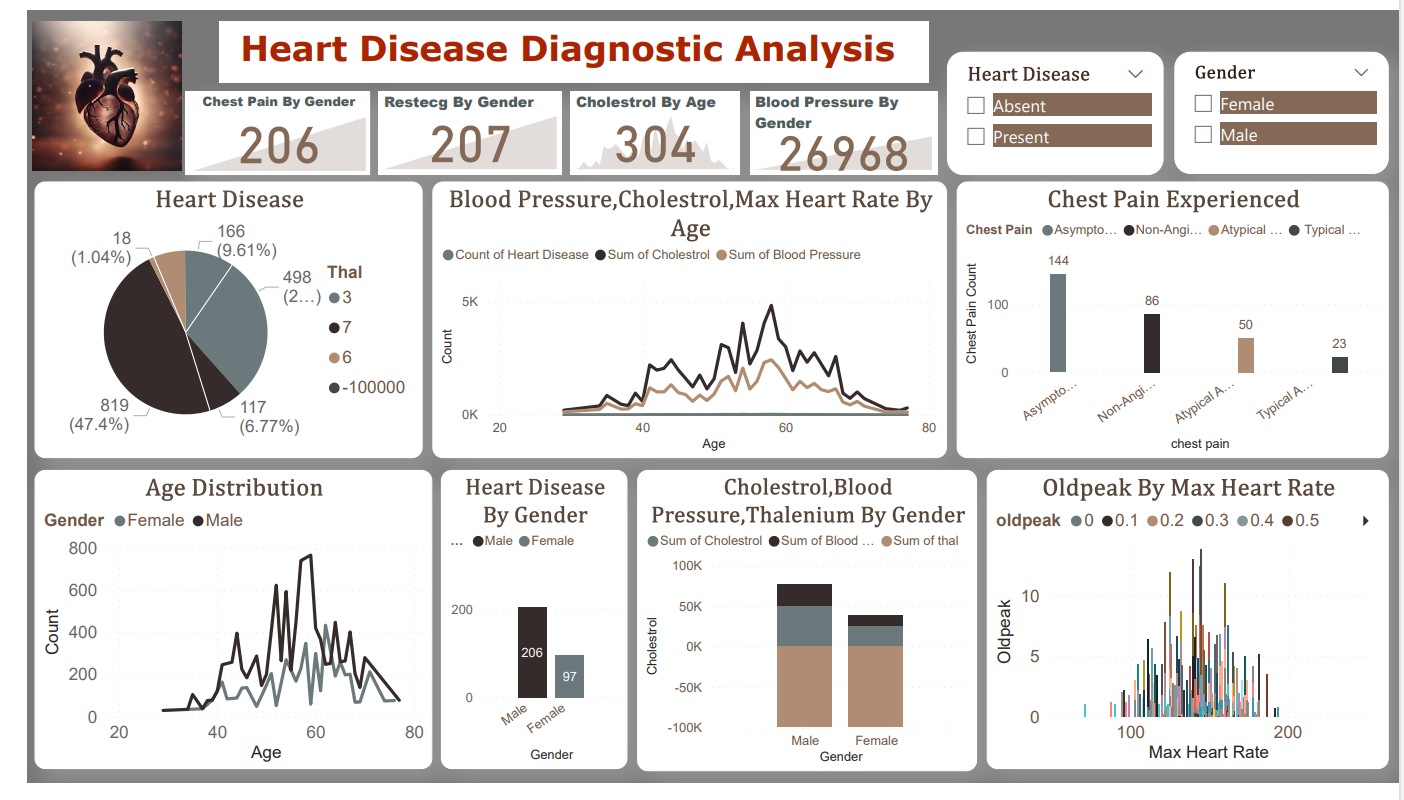

Layout of this report page (visuals, bound fields, positions):
{"tool":"powerbi","page":{"name":"Page 1","canvas":[1280,720],"ordinal":0},"visuals":[{"type":"slicer","fields":{"Values":["Clean Heart Disease Diagnostic Analysis.Gender"]},"box":[1070.4,38.3,200,113.6],"z":0},{"type":"slicer","fields":{"Values":["Clean Heart Disease Diagnostic Analysis.Heart Disease"]},"box":[858,38.3,202.5,114.8],"z":1000},{"type":"textbox","box":[179,9.9,661.7,56.8],"z":2000},{"type":"image","box":[0,0,149.4,159.3],"z":3000},{"type":"lineChart","title":"Age Distribution","fields":{"Category":["Clean Heart Disease Diagnostic Analysis.age"],"Y":["Sum(Clean Heart Disease Diagnostic Analysis.age)"],"Series":["Clean Heart Disease Diagnostic Analysis.Gender"]},"box":[7.4,428.4,370.4,279],"z":4000},{"type":"pieChart","title":"Heart Disease","fields":{"Category":["Clean Heart Disease Diagnostic Analysis.thal"],"Y":["CountNonNull(Clean Heart Disease Diagnostic Analysis.Heart Disease)","Sum(Clean Heart Disease Diagnostic Analysis.thal)"]},"box":[7.4,159.3,361.7,258],"z":5000},{"type":"columnChart","title":"Heart Disease By Gender","fields":{"Category":["Clean Heart Disease Diagnostic Analysis.Gender"],"Y":["CountNonNull(Clean Heart Disease Diagnostic Analysis.Heart Disease)"],"Series":["Clean Heart Disease Diagnostic Analysis.Gender"]},"box":[386.4,428.4,174.1,279],"z":6000},{"type":"clusteredColumnChart","title":"Chest Pain Experienced","fields":{"Category":["Clean Heart Disease Diagnostic Analysis.chest pain"],"Y":["CountNonNull(Clean Heart Disease Diagnostic Analysis.Heart Disease)"],"Series":["Clean Heart Disease Diagnostic Analysis.chest pain"]},"box":[866.7,159.3,403.7,258],"z":7000},{"type":"lineChart","title":"Blood Pressure,Cholestrol,Max Heart Rate By Age","fields":{"Category":["Clean Heart Disease Diagnostic Analysis.age"],"Y":["CountNonNull(Clean Heart Disease Diagnostic Analysis.Heart Disease)","Sum(Clean Heart Disease Diagnostic Analysis.Cholestrol)","Sum(Clean Heart Disease Diagnostic Analysis.Blood Pressure)"]},"box":[377.8,159.3,480.2,258],"z":8000},{"type":"lineStackedColumnComboChart","title":" Oldpeak By Max Heart Rate ","fields":{"Y":["Sum(Clean Heart Disease Diagnostic Analysis.oldpeak)"],"Series":["Clean Heart Disease Diagnostic Analysis.oldpeak"],"Category":["Clean Heart Disease Diagnostic Analysis.Max Heart Rate"]},"box":[895.1,428.4,375.3,279],"z":9000},{"type":"columnChart","title":"Cholestrol,Blood Pressure,Thalenium By Gender","fields":{"Category":["Clean Heart Disease Diagnostic Analysis.Gender"],"Y":["Sum(Clean Heart Disease Diagnostic Analysis.Cholestrol)","Sum(Clean Heart Disease Diagnostic Analysis.Blood Pressure)","Sum(Clean Heart Disease Diagnostic Analysis.thal)"]},"box":[569.1,428.4,317.3,280.2],"z":10000},{"type":"kpi","title":" Restecg By Gender","fields":{"Indicator":["Sum(Clean Heart Disease Diagnostic Analysis.restecg)"],"TrendLine":["Clean Heart Disease Diagnostic Analysis.Gender"]},"box":[328.4,75.3,170.4,77.8],"z":10002},{"type":"kpi","title":"Chest Pain By Gender","fields":{"Indicator":["CountNonNull(Clean Heart Disease Diagnostic Analysis.chest pain)"],"TrendLine":["Clean Heart Disease Diagnostic Analysis.Gender"]},"box":[148.1,75.3,171.6,77.8],"z":10003},{"type":"kpi","title":"Cholestrol By Age","fields":{"Indicator":["Sum(Clean Heart Disease Diagnostic Analysis.Cholestrol)"],"TrendLine":["Clean Heart Disease Diagnostic Analysis.age"]},"box":[507.4,75.3,158,77.8],"z":10004},{"type":"kpi","title":" Blood Pressure By Gender","fields":{"Indicator":["Sum(Clean Heart Disease Diagnostic Analysis.Blood Pressure)"],"TrendLine":["Clean Heart Disease Diagnostic Analysis.Gender"]},"box":[674.1,75.3,175.3,77.8],"z":10005}]}

Visuals, with their boxes in screenshot pixels (x1, y1, x2, y2), scaled from the page's 1280x720 canvas onto the 1404x800 screenshot:
slicer - Clean Heart Disease Diagnostic Analysis.Gender: locate(1174, 43, 1393, 169)
slicer - Clean Heart Disease Diagnostic Analysis.Heart Disease: locate(941, 43, 1163, 170)
textbox: locate(196, 11, 922, 74)
image: locate(0, 0, 164, 177)
"Age Distribution" lineChart: locate(8, 476, 414, 786)
"Heart Disease" pieChart: locate(8, 177, 405, 464)
"Heart Disease By Gender" columnChart: locate(424, 476, 615, 786)
"Chest Pain Experienced" clusteredColumnChart: locate(951, 177, 1393, 464)
"Blood Pressure,Cholestrol,Max Heart Rate By Age" lineChart: locate(414, 177, 941, 464)
" Oldpeak By Max Heart Rate " lineStackedColumnComboChart: locate(982, 476, 1393, 786)
"Cholestrol,Blood Pressure,Thalenium By Gender" columnChart: locate(624, 476, 972, 787)
" Restecg By Gender" kpi: locate(360, 84, 547, 170)
"Chest Pain By Gender" kpi: locate(162, 84, 351, 170)
"Cholestrol By Age" kpi: locate(557, 84, 730, 170)
" Blood Pressure By Gender" kpi: locate(739, 84, 932, 170)
